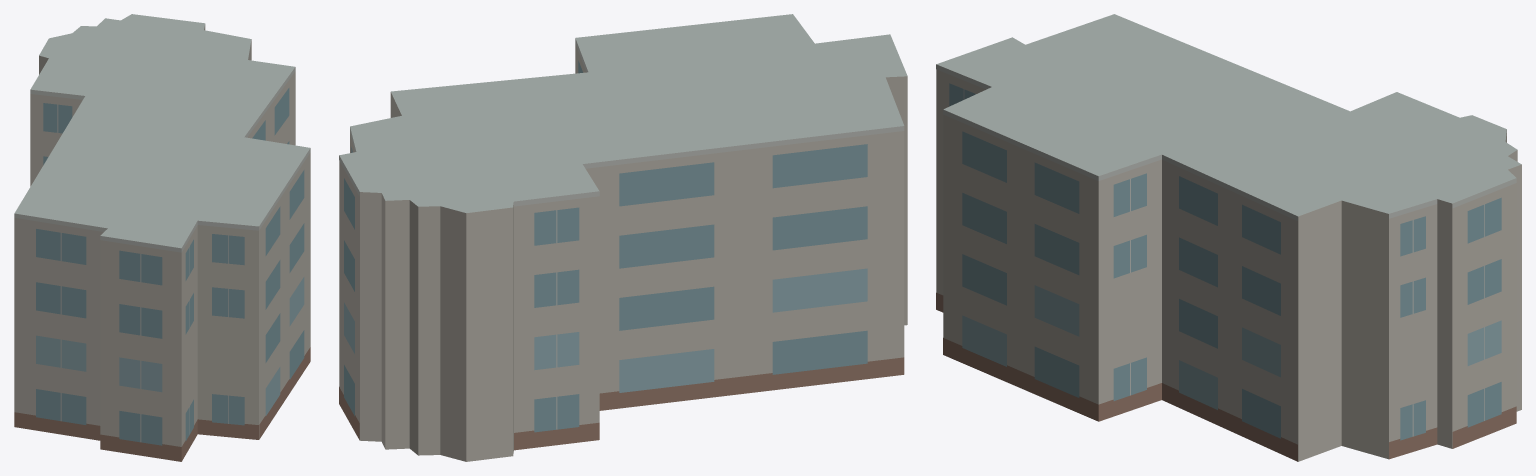
File: survey-upis-32682193.glb
3 renders of one model, left to right at view 1: azimuth 30°, elevation 25°; view 2: azimuth 150°, elevation 25°; view 3: azimuth 270°, elevation 25°, orthographic. The views are drawn at different scales.
Parts seen in each view (by area): view 1: survey-upis-32682193.tmp; view 2: survey-upis-32682193.tmp; view 3: survey-upis-32682193.tmp.
Boxes of the visible parts, box(x1,y1,x2,y2) form: survey-upis-32682193.tmp: box(14, 14, 310, 461); survey-upis-32682193.tmp: box(339, 14, 907, 461); survey-upis-32682193.tmp: box(936, 14, 1521, 461).
Bounding box in the file's own units: 21.6 × 12.2 × 26.39.
